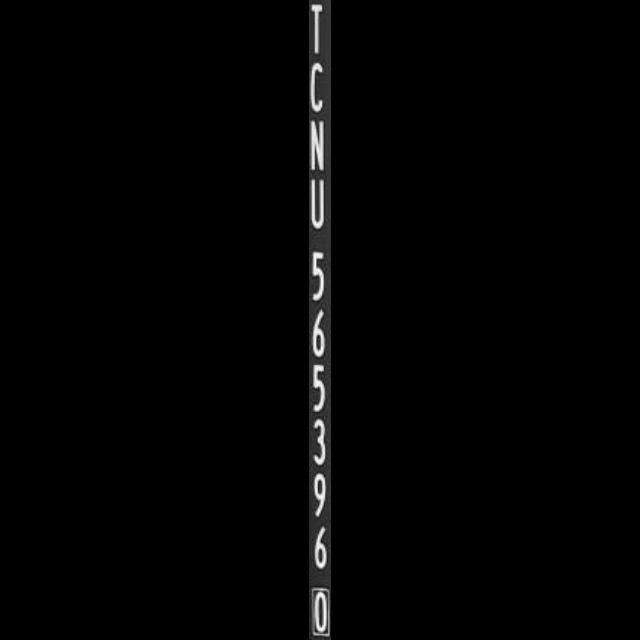0: (309, 579, 331, 639)
3: (309, 414, 331, 466)
5: (309, 356, 331, 416), (309, 246, 331, 304)
6: (309, 303, 331, 359), (309, 520, 331, 572)
9: (309, 468, 331, 524)
c: (309, 60, 331, 119)
n: (309, 116, 331, 178)
t: (309, 0, 331, 58)
u: (309, 174, 331, 232)
